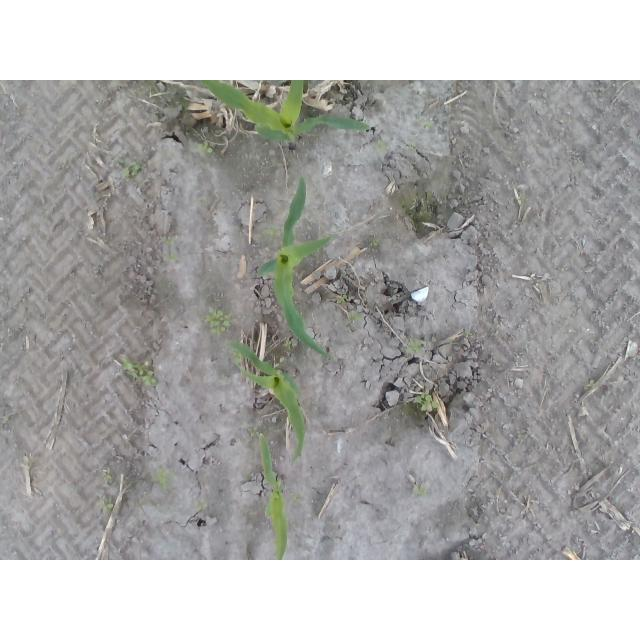Maize: (256, 175, 338, 361), (203, 81, 373, 149), (223, 337, 307, 467), (256, 432, 289, 559)
Weeds: (121, 356, 160, 387), (202, 307, 234, 334), (149, 469, 178, 488), (415, 390, 438, 413), (122, 163, 142, 182), (407, 339, 426, 356), (98, 496, 114, 514), (21, 456, 36, 473), (101, 466, 113, 487), (345, 309, 364, 322), (412, 483, 427, 497), (197, 141, 212, 155), (233, 346, 242, 366), (193, 501, 208, 512), (165, 251, 179, 262), (378, 136, 388, 150), (267, 228, 284, 236), (420, 120, 434, 129), (582, 378, 594, 387), (336, 295, 345, 306), (405, 143, 417, 150), (165, 237, 176, 244), (372, 239, 378, 244)
